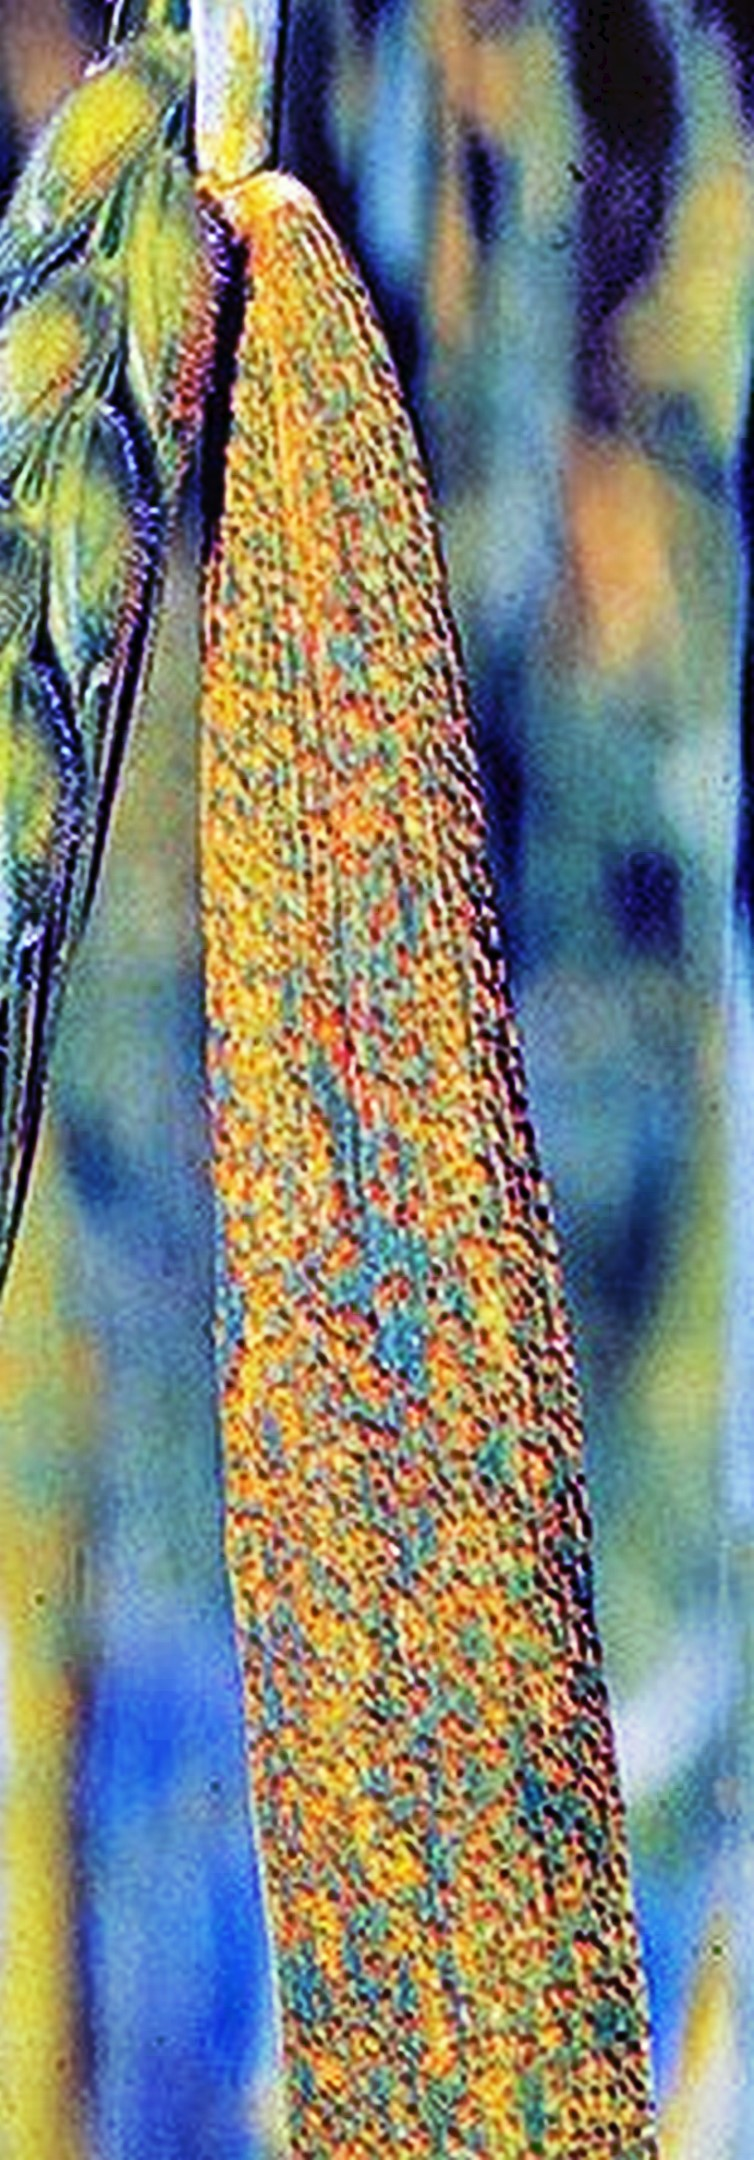Leaf Rust: (187, 344, 675, 2132)
